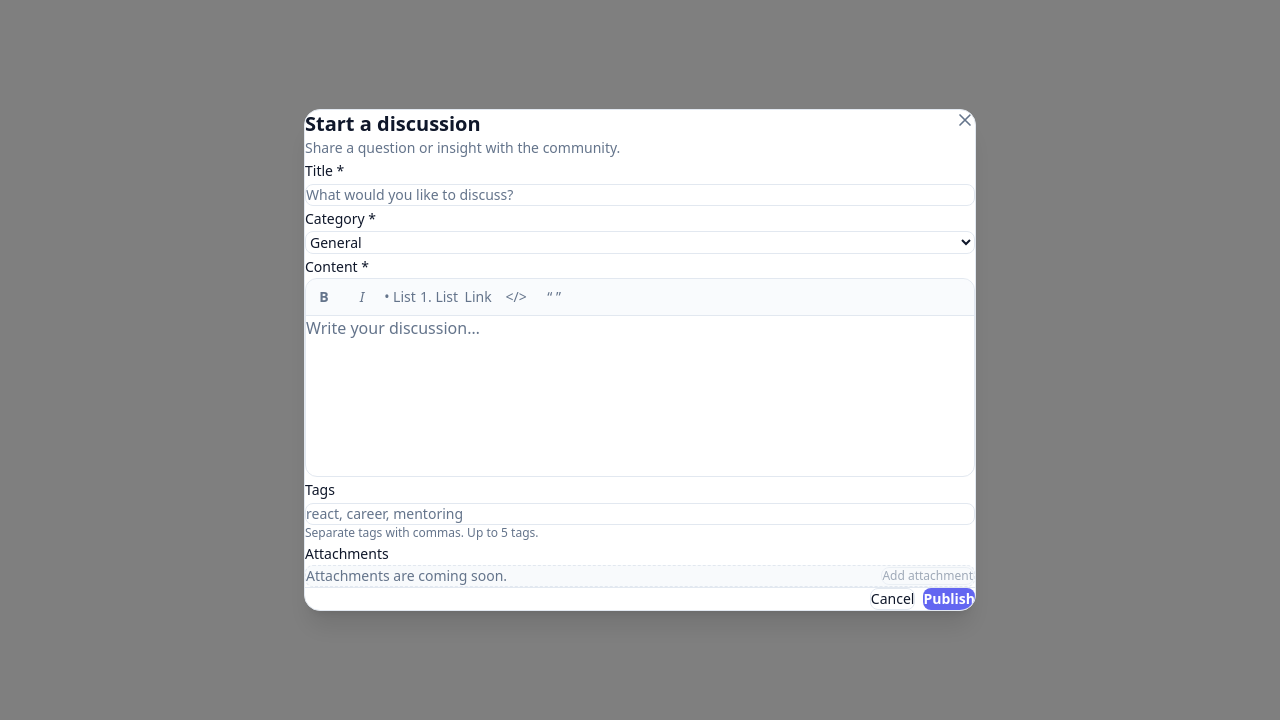
Scenario: StartDiscussionModal › validates required fields before submitting
Click the button "Publish" at (949, 599), box 923,588 -> 975,610
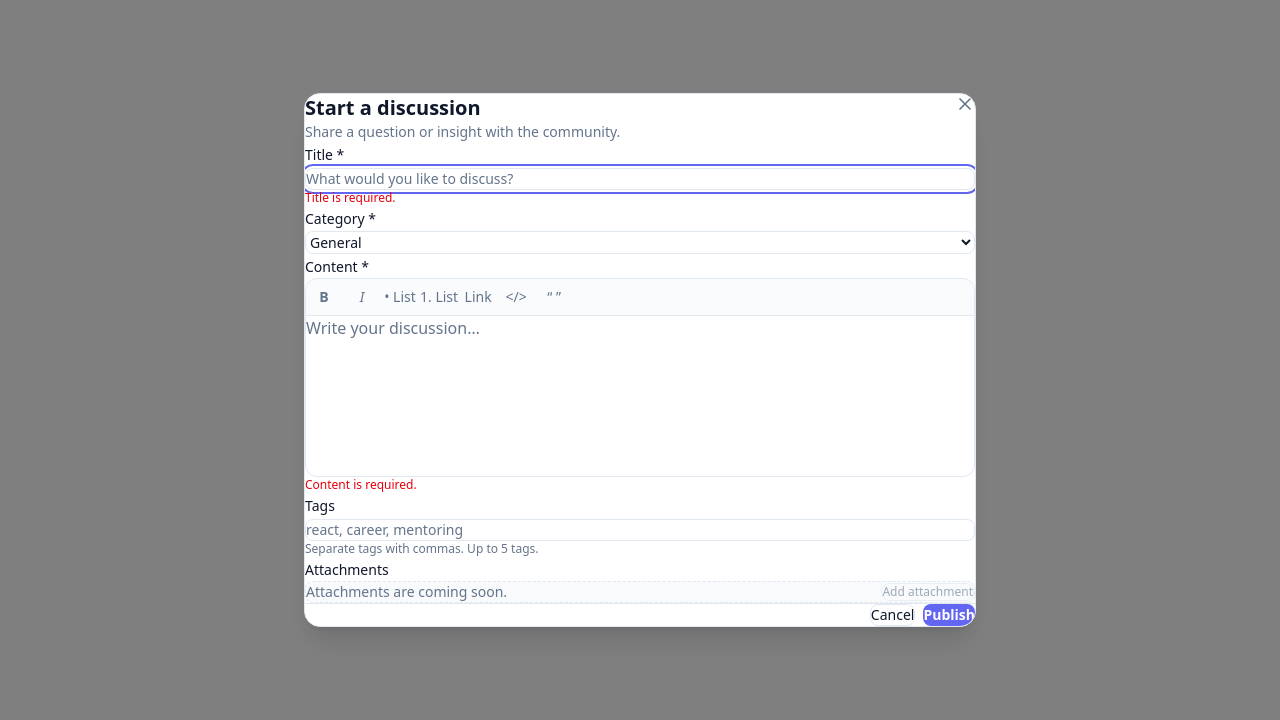
Check: the text "Title is required." is shown, box 305,189 -> 396,206
Check: the text "Content is required." is shown, box 305,476 -> 417,493
